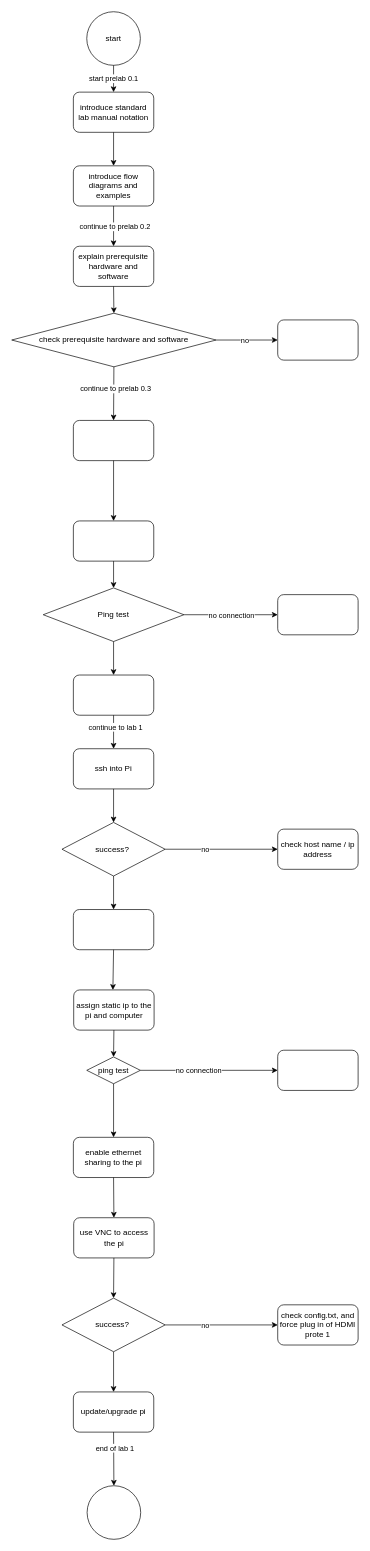
This 370x1551 diagram has some shape labels left out. The centre of each missing label's shape, as x and y in pixels:
"capture terminal window" belongs at [113,694].
"check if static ip is assigned correctly" belongs at [317,1070].
"check os insttalation settings and host name" belongs at [317,614].
"do basic setup of pi" belongs at [113,929].
"End" belongs at [113,1512].
"install buster legacy to the pi SD card" belongs at [113,540].
"install or buy required lab material" belongs at [317,339].
"take out pi, SD card, laptop and required cables" belongs at [113,440].
